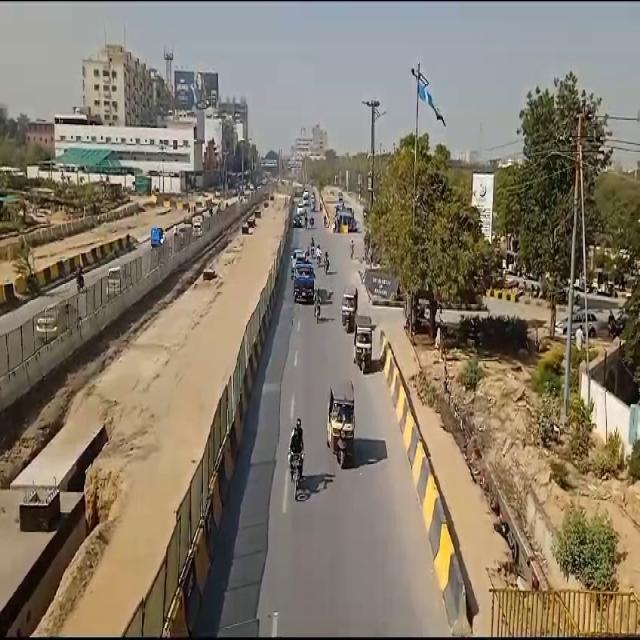car: (556, 306, 600, 339)
motorbike: (289, 413, 307, 502), (74, 260, 86, 294), (314, 287, 323, 322), (324, 250, 331, 276)
truck: (293, 252, 315, 306)
